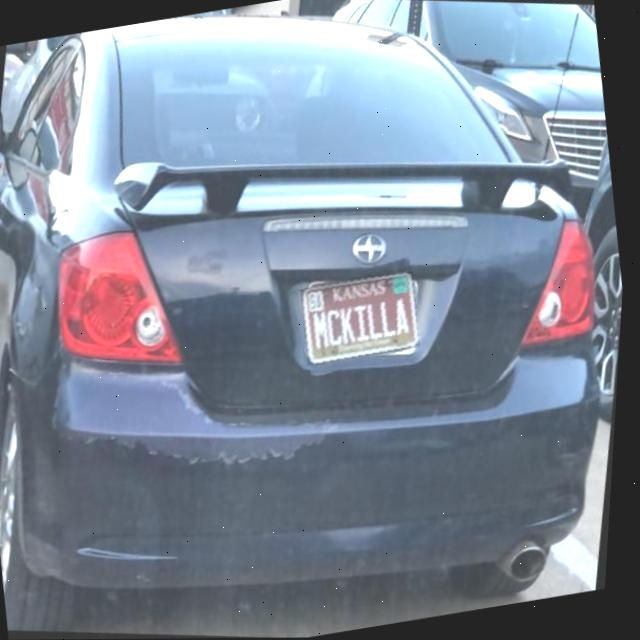LicensePlate: (307, 272, 425, 366)
